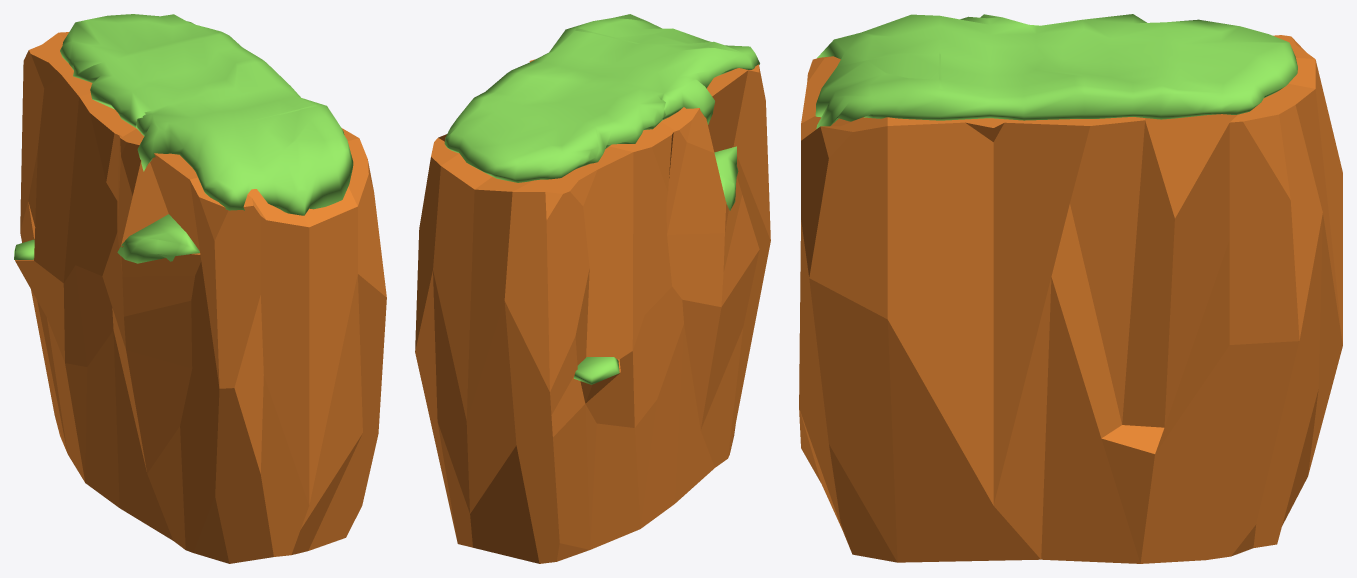
File: PlatformBig.fbx
3 views of the same model, side by side, from view 1: azimuth 30°, elevation 25°; view 2: azimuth 150°, elevation 25°; view 3: azimuth 270°, elevation 25° (orthographic). The views are drawn at different scales.
Visible parts, largest first — view 1: PlatformBig; view 2: PlatformBig; view 3: PlatformBig.
Part boxes in pixels (box(x1,y1,x2,y2)): PlatformBig: box(14, 14, 386, 563); PlatformBig: box(415, 14, 770, 563); PlatformBig: box(799, 14, 1342, 563).
Size of the model in its own units: 480 by 852 by 886.
